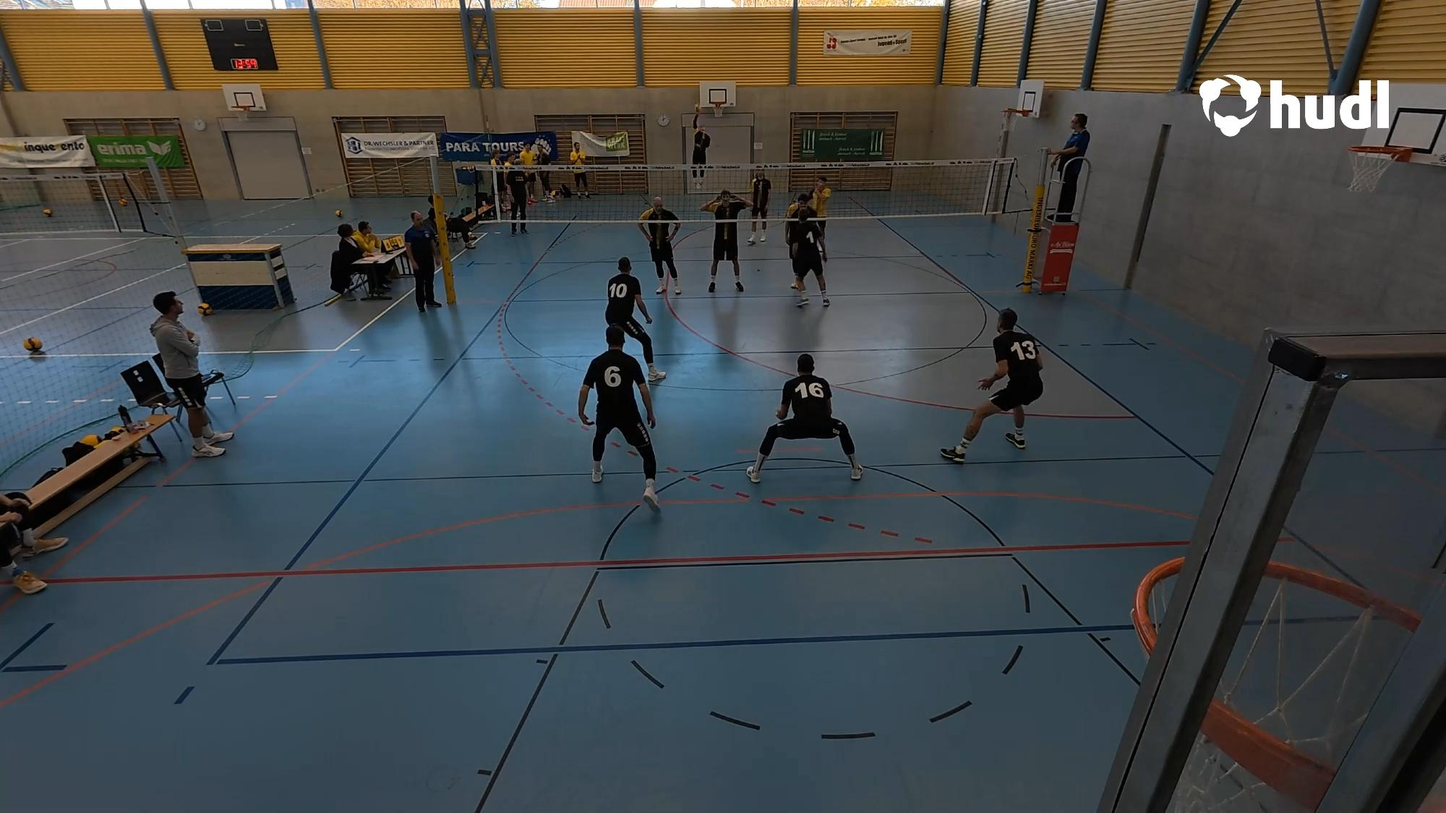battuta: (688, 102, 712, 191)
